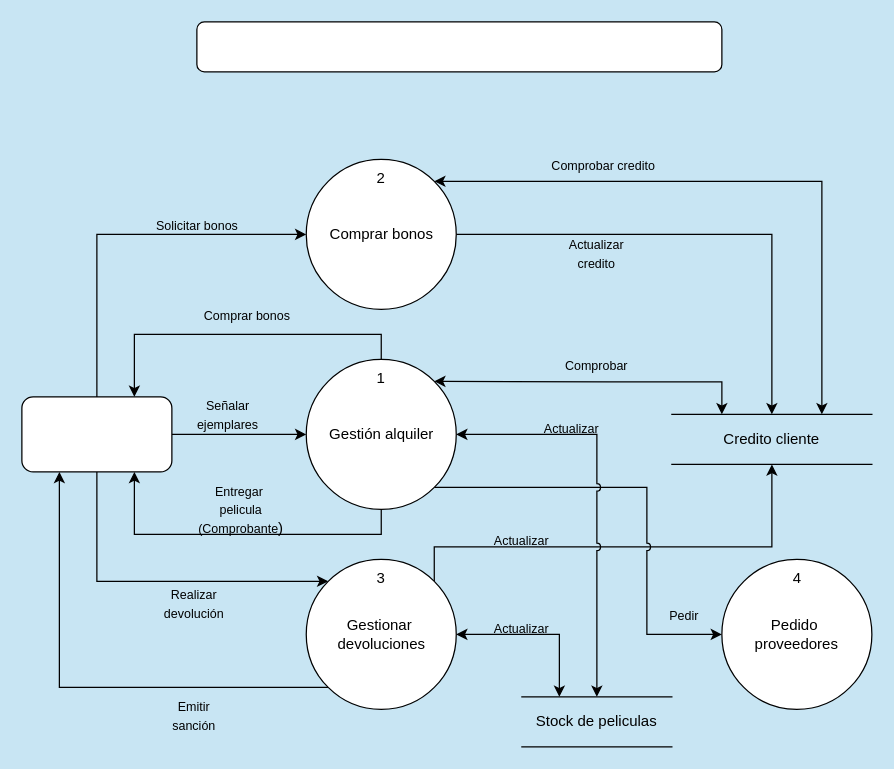
The diagram is 894 pixels wide and 769 high, and some of its shapes have lost their labels. Here are the shapes that lost their labels. From the top down, the centre of each, then its label:
point (459, 46): Diagrama 0: Gestionar Videoclub
point (96, 434): Cliente
